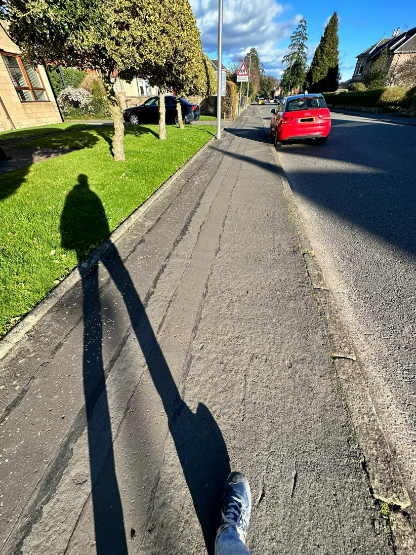car: (258, 89, 339, 153), (129, 91, 203, 127)
tree: (0, 0, 208, 149), (117, 0, 204, 135), (277, 18, 319, 85), (315, 14, 351, 84), (234, 46, 268, 90)
